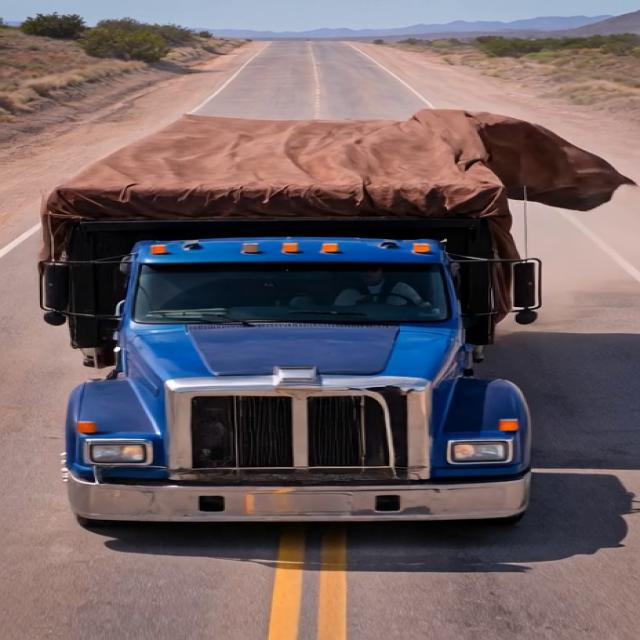Box: (51, 99, 528, 219)
Truck: (35, 76, 588, 524)
